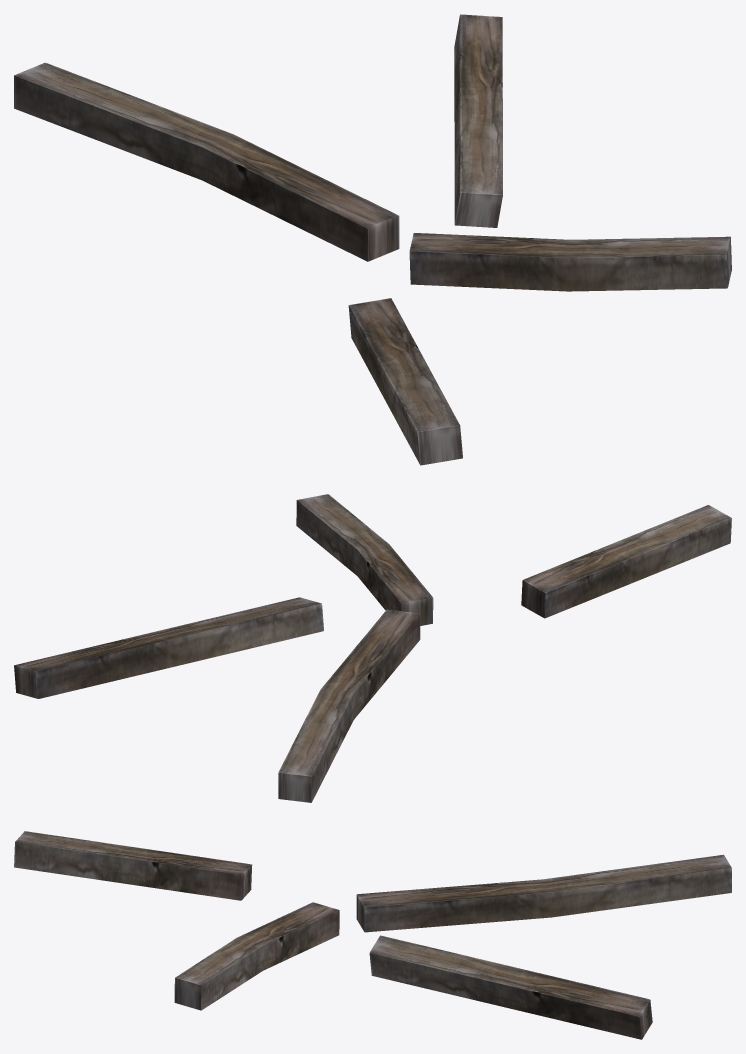
The model's file is pir_m_prp_shn_debris_boardC.fbx.
3 views of the same model, one above another, from view 1: azimuth 30°, elevation 25°; view 2: azimuth 150°, elevation 25°; view 3: azimuth 270°, elevation 25° (orthographic). The views are drawn at different scales.
Parts seen in each view (by area): view 1: board_0, board_1, board_3, board_2; view 2: board_3, board_0, board_2, board_1; view 3: board_0, board_3, board_2, board_1.
Part boxes in pixels (bbox=[...]): board_0: bbox=[14, 62, 399, 261]; board_1: bbox=[409, 233, 731, 291]; board_3: bbox=[454, 14, 502, 227]; board_2: bbox=[348, 298, 462, 465]; board_3: bbox=[14, 597, 323, 698]; board_0: bbox=[278, 609, 420, 802]; board_2: bbox=[521, 505, 731, 618]; board_1: bbox=[296, 494, 433, 625]; board_0: bbox=[356, 854, 731, 932]; board_3: bbox=[369, 935, 652, 1039]; board_2: bbox=[14, 831, 252, 900]; board_1: bbox=[174, 902, 339, 1010].
Bounding box in the file's own units: 420 × 36.66 × 704.
Materials: 1 (1 with a texture image).
